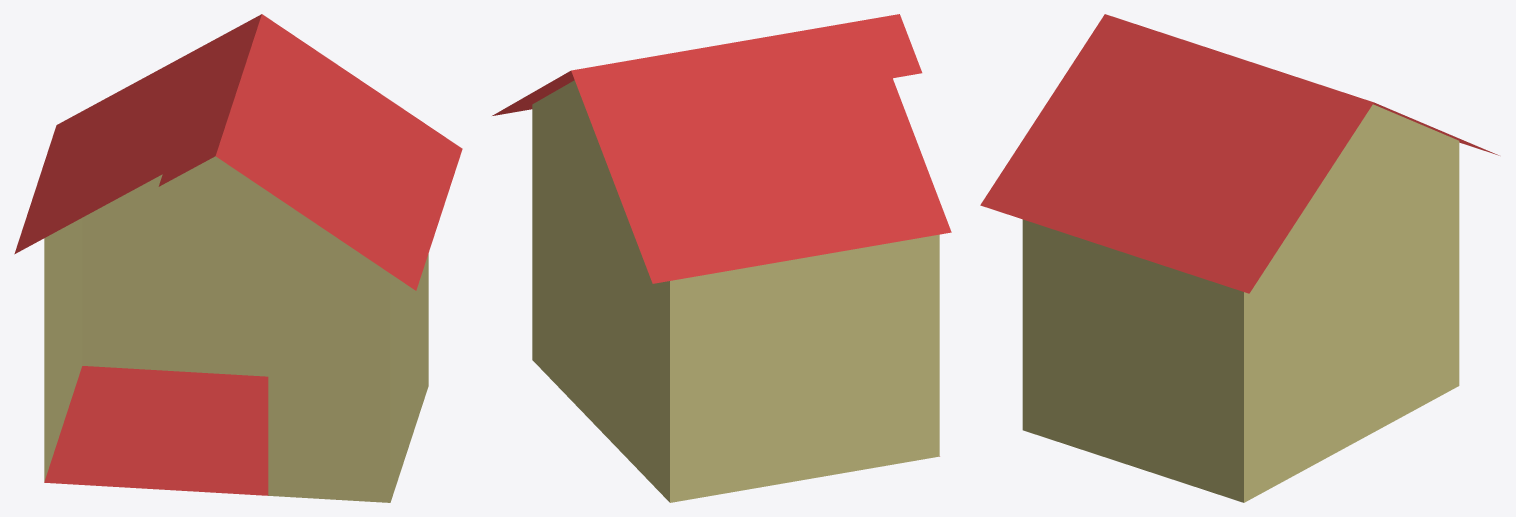
The picture shows the model from 3 angles, left to right: view 1: azimuth 30°, elevation 25°; view 2: azimuth 150°, elevation 25°; view 3: azimuth 270°, elevation 25°; orthographic projection. The views are drawn at different scales.
Parts seen in each view (by area): view 1: group_5, group_3, group_6, group_4; view 2: group_5, group_3, group_4; view 3: group_5, group_3.
Boxes of the visible parts, x1,y1,x2,y2 form: group_5: (44,156,428,502); group_3: (14,14,462,290); group_6: (44,366,268,495); group_4: (18,123,216,250); group_5: (532,80,939,502); group_3: (492,14,951,283); group_4: (653,15,949,283); group_5: (1022,104,1459,502); group_3: (980,14,1498,293).
Size of the model in its own units: 17 by 17.22 by 12.77.
